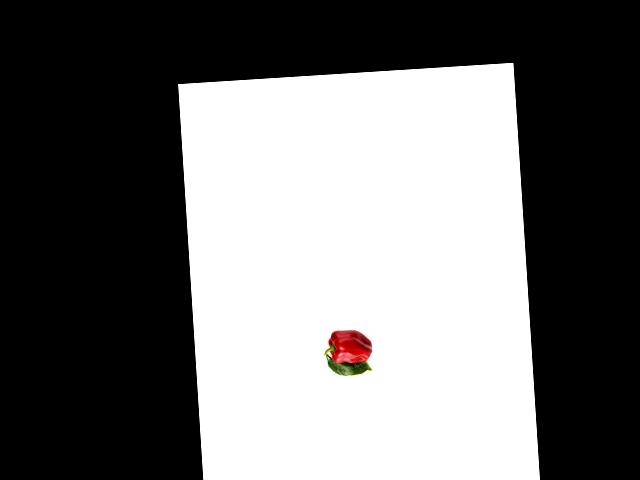bell_pepper: (323, 324, 374, 367)
